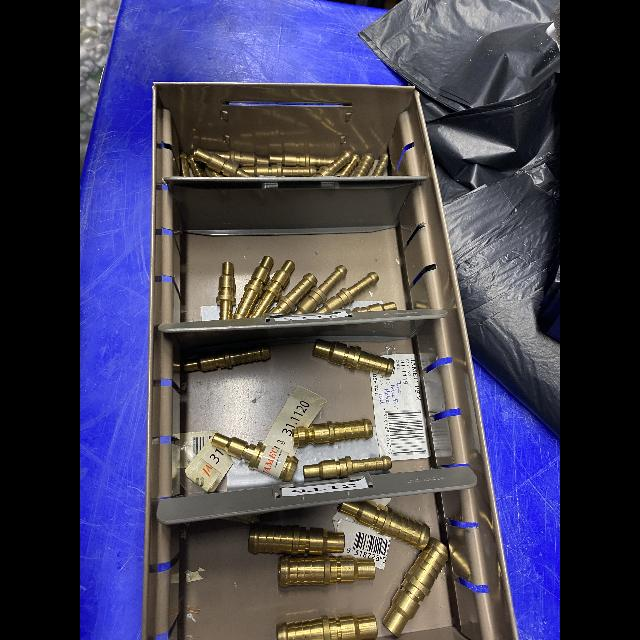Brass: (383, 538, 448, 636), (338, 501, 430, 550), (278, 554, 375, 587), (248, 524, 344, 556), (313, 340, 394, 377), (248, 260, 295, 317), (232, 256, 273, 318), (277, 615, 377, 640), (296, 265, 347, 314), (317, 272, 379, 312), (293, 419, 373, 447), (184, 346, 270, 372), (303, 456, 391, 480), (269, 273, 317, 315), (212, 433, 266, 469), (193, 148, 253, 177), (216, 262, 236, 320), (269, 153, 338, 168), (206, 150, 269, 166), (313, 151, 353, 176), (242, 164, 317, 177), (352, 153, 375, 177), (335, 154, 360, 176), (354, 301, 397, 312), (372, 153, 389, 176), (187, 156, 205, 176), (281, 459, 298, 480), (179, 151, 189, 177), (204, 166, 222, 177)
